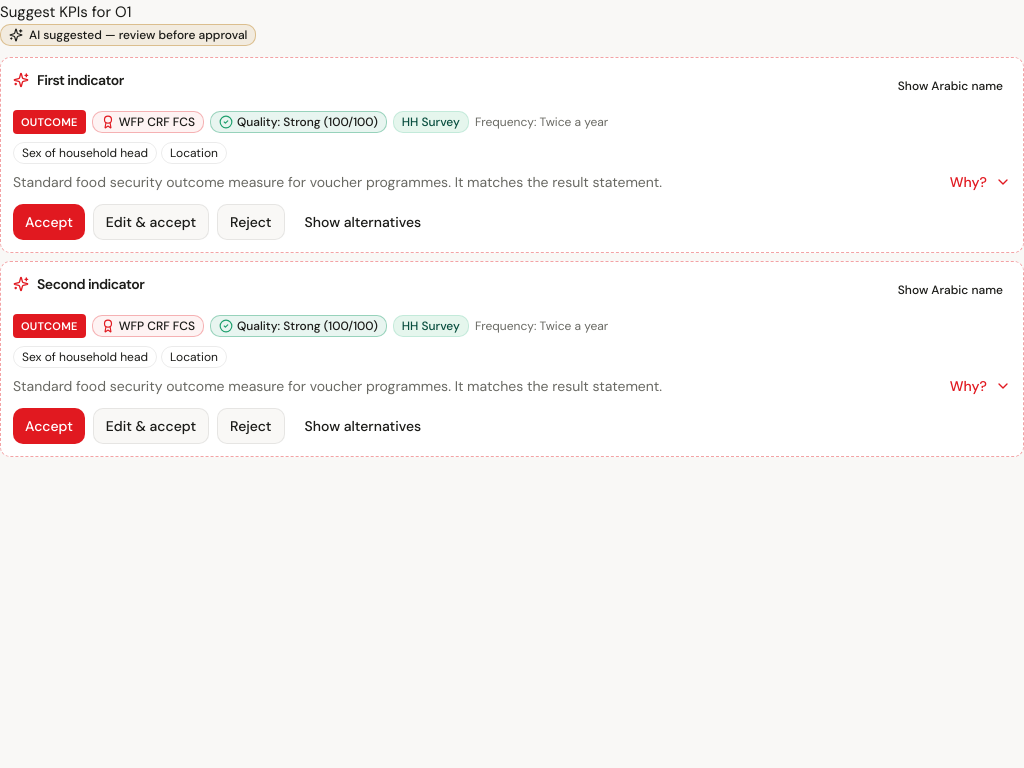
Scenario: Edit & accept answered 409 (UX-06, WCAG 2.4.3) › already_decided: closes the dialog, removes the card and moves focus to the next card
Step 1. Click the button with aria-label "Edit & accept “First indicator”" → (151, 222), box x1=93 y1=204 x2=209 y2=240
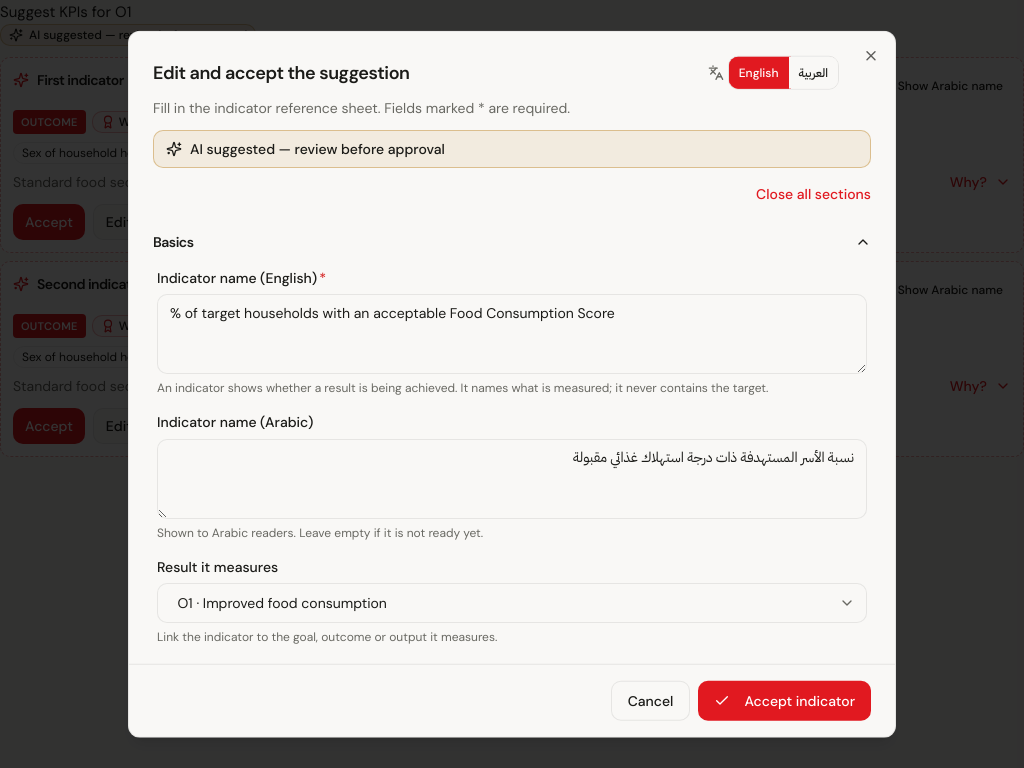
Step 2. Click the button "Accept indicator" → (785, 700), box x1=698 y1=680 x2=871 y2=720
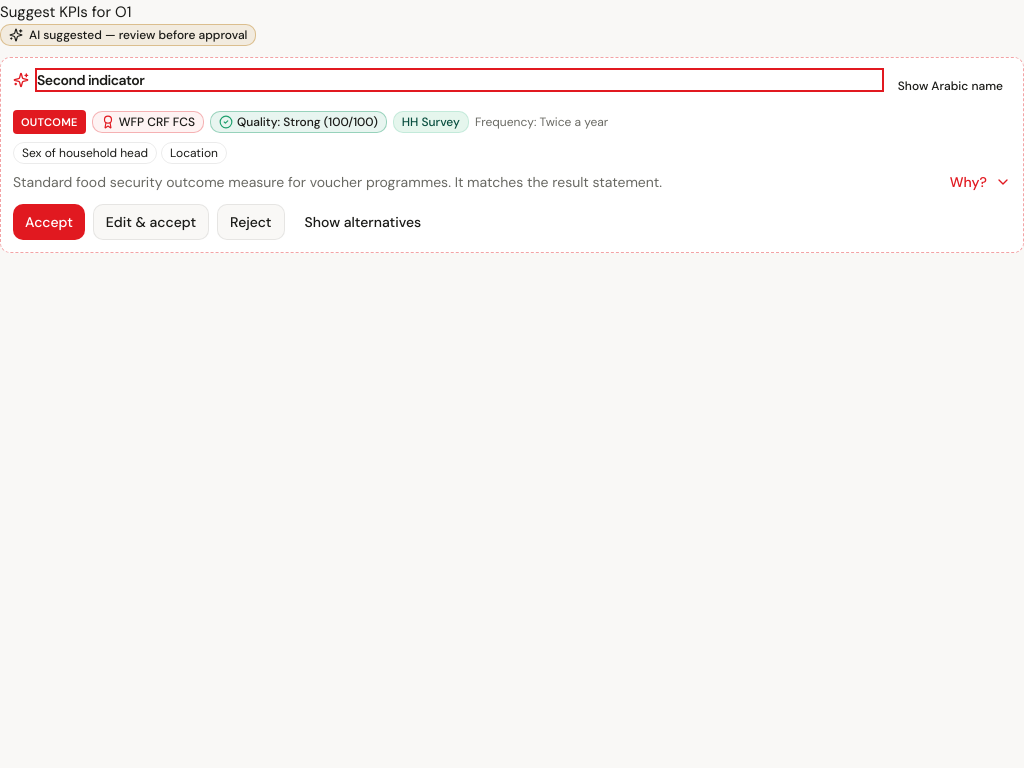
expect the dialog is gone: met
expect the text "First indicator" is gone: met
